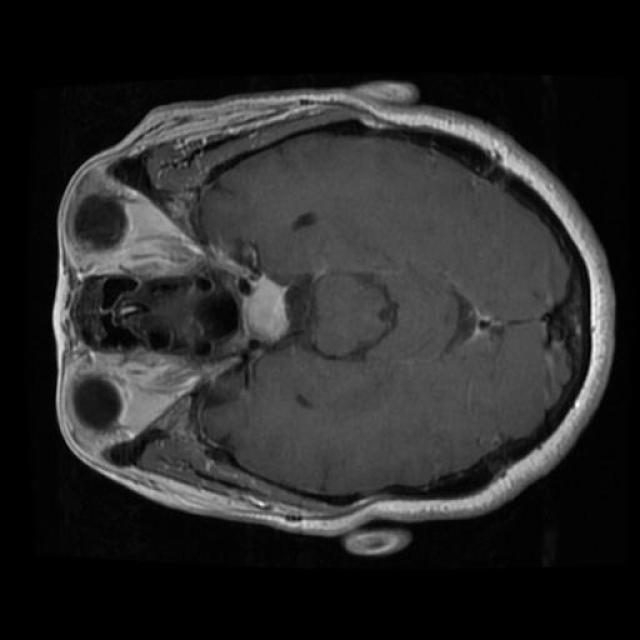Pituitary: (225, 265, 291, 358)
